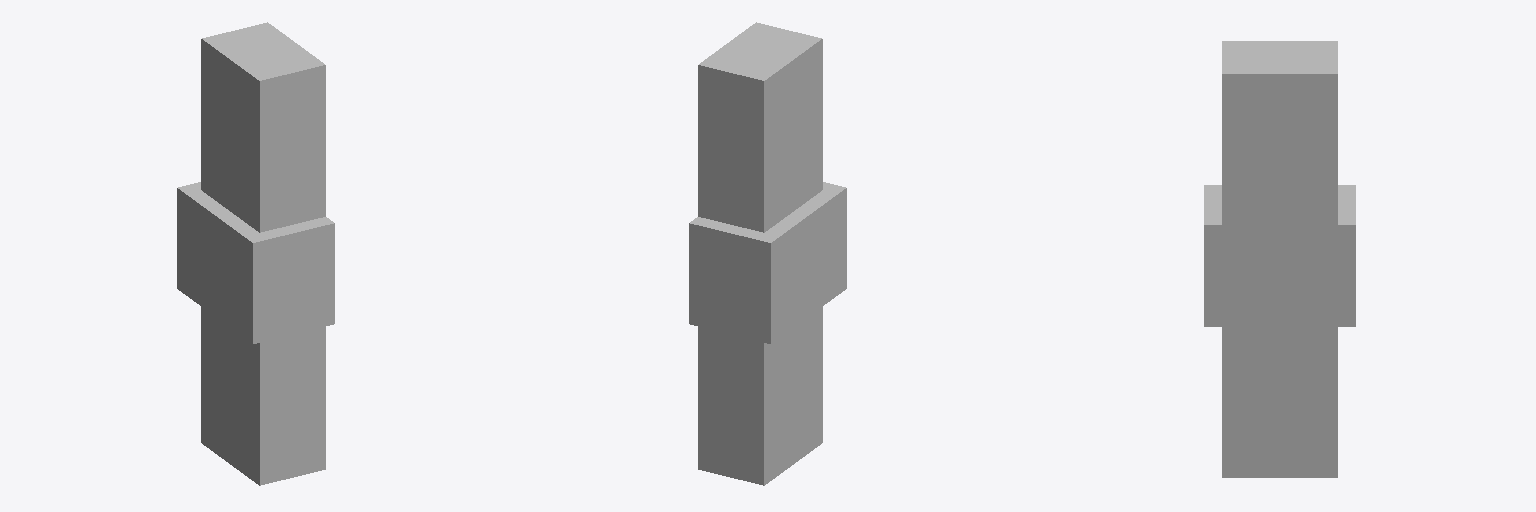
The model's file is chimney.obj.
The picture shows the model from 3 angles: view 1: azimuth 30°, elevation 25°; view 2: azimuth 150°, elevation 25°; view 3: azimuth 270°, elevation 25°; orthographic projection.
Parts seen in each view (by area): view 1: chimney; view 2: chimney; view 3: chimney.
Part boxes in pixels (x1,y1,x2,y2): chimney: (177,22,334,485); chimney: (689,22,846,485); chimney: (1204,41,1355,477).
Size of the model in its own units: 0.2119 by 1 by 0.34.